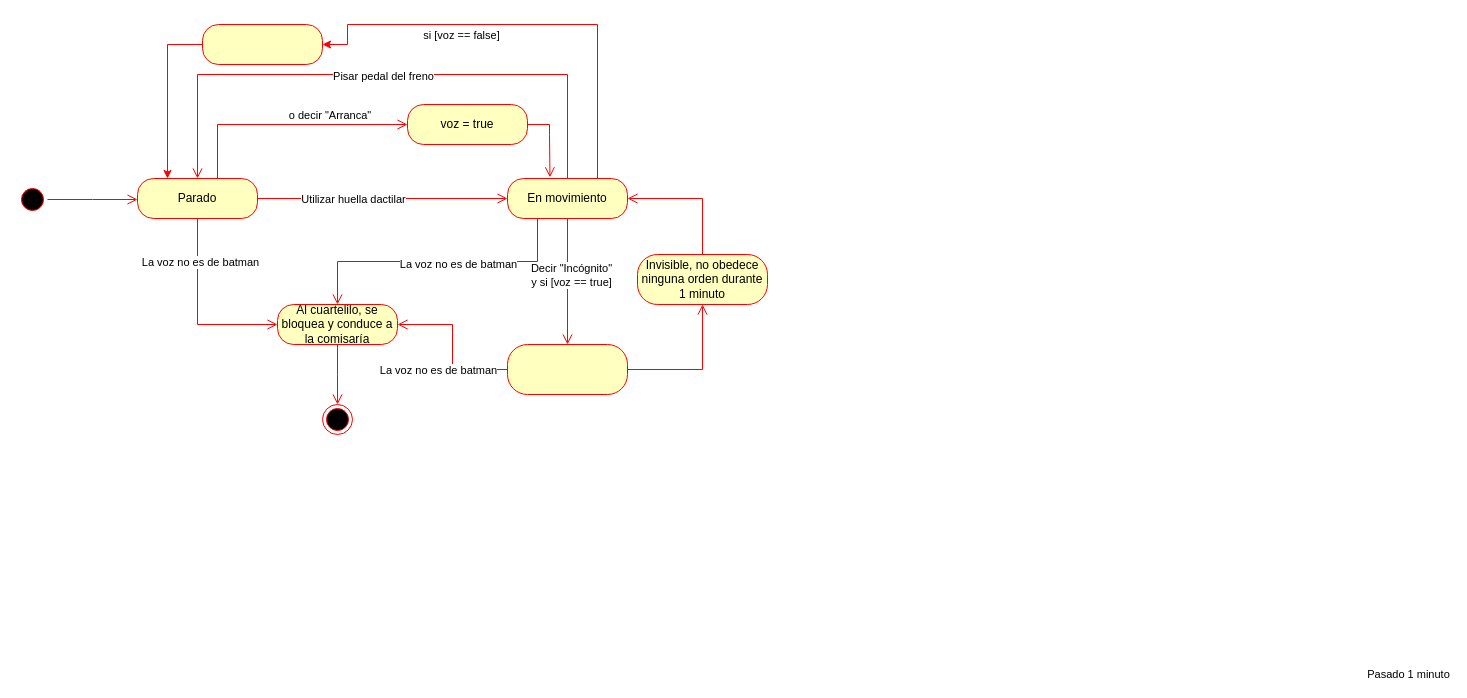
Image size: 1467x698. Some labels were removed from this diagram. The shapes that lost their labels are listed below. From the top down, each one's centre as x and y in pixels, then its label:
At point 262,44: "Empieza a frenar".
At point 567,369: "Invisible, circula más lento, el chasis se vuelve traslúcido".
